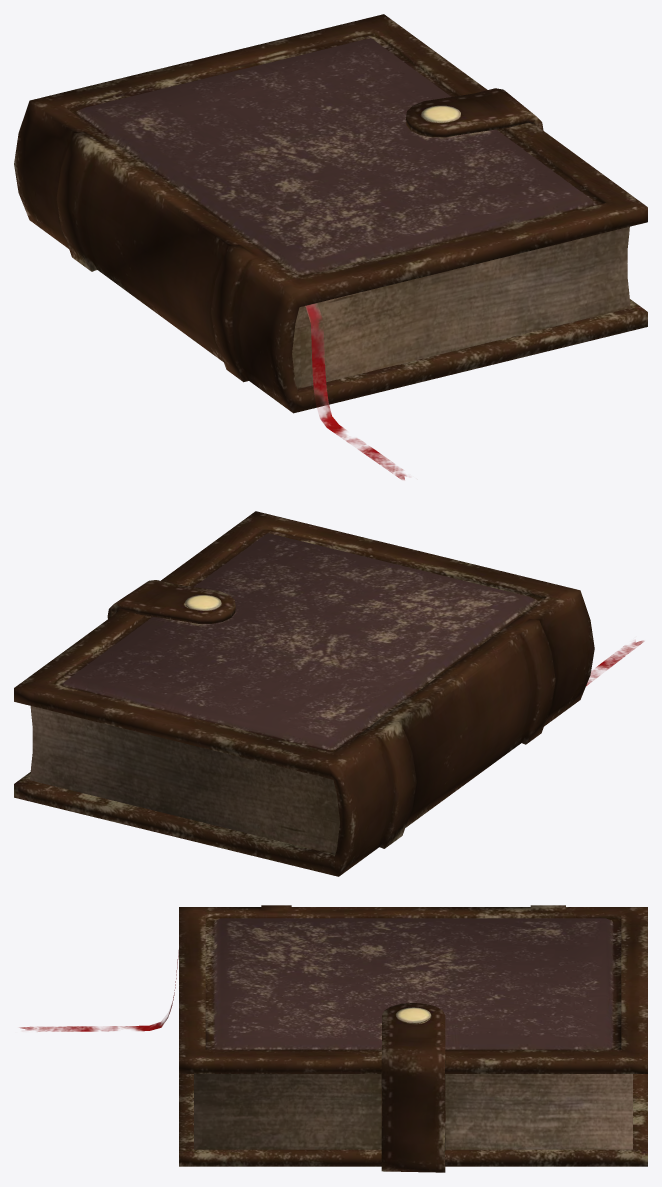
File: obj-11-autograph-book.glb
3 renders of one model, top to bottom at view 1: azimuth 30°, elevation 25°; view 2: azimuth 150°, elevation 25°; view 3: azimuth 270°, elevation 25°, orthographic. The views are drawn at different scales.
Parts seen in each view (by area): view 1: Book_low; view 2: Book_low; view 3: Book_low.
Boxes of the visible parts, x1=… form: Book_low: x1=14, y1=14, x2=647, y2=480; Book_low: x1=14, y1=511, x2=644, y2=876; Book_low: x1=19, y1=905, x2=647, y2=1172.
Bounding box in the file's own units: 338 × 123 × 541.
1 material, 1 textured.
